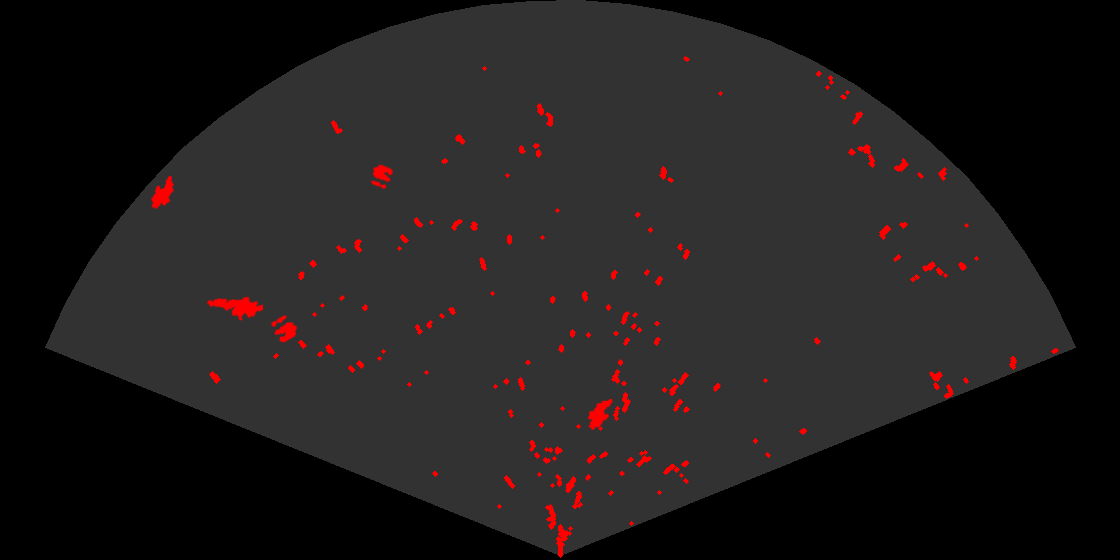AUV: (149, 174, 176, 211), (586, 397, 614, 432)
ball: (270, 314, 299, 344), (369, 163, 395, 191)
frogman: (205, 295, 263, 323)
